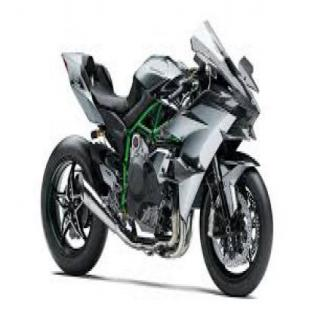Motocicleta: (35, 12, 276, 299)
